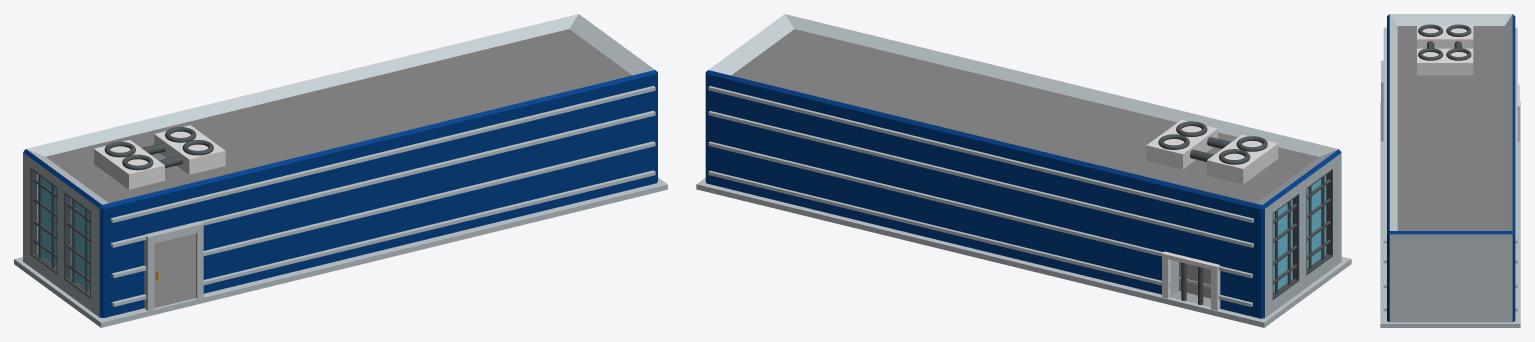
The model's file is ThirdBuilding.fbx.
3 views of the same model, side by side, from view 1: azimuth 30°, elevation 25°; view 2: azimuth 150°, elevation 25°; view 3: azimuth 270°, elevation 25° (orthographic). The views are drawn at different scales.
Parts seen in each view (by area): view 1: pasted__pCube24, pasted__pCube7, pasted__pCube16, pasted__pCube25, pasted__pCube19, pasted__pCube12, pasted__pCube158, pasted__pCube6, pasted__pCube148, pasted__pCube2, pasted__pCube3, pasted__pCube157 (+3 smaller); view 2: pasted__pCube24, pasted__pCube7, pasted__pCube12, pasted__pCube25, pasted__pCube19, pasted__pCube18, pasted__pCube158, pasted__pCube2, pasted__pCube148, pasted__pCube3, pasted__pCube21, pasted__pCube154 (+2 smaller); view 3: pasted__pCube24, pasted__pCube7, pasted__pCube3, pasted__pCube12, pasted__pCube157, pasted__pCube2, pasted__pCube6, pasted__pTorus1, pasted__pTorus2, pasted__pTorus3, pasted__pTorus4, pasted__pCube19 (+3 smaller).
Boxes of the visible parts, x1,y1,x2,y2 form: pasted__pCube24: [23, 14, 657, 317]; pasted__pCube7: [14, 177, 667, 327]; pasted__pCube16: [154, 233, 195, 307]; pasted__pCube25: [203, 170, 655, 285]; pasted__pCube19: [203, 141, 655, 256]; pasted__pCube12: [145, 86, 655, 214]; pasted__pCube158: [110, 119, 621, 247]; pasted__pCube6: [144, 221, 203, 310]; pasted__pCube148: [38, 174, 90, 291]; pasted__pCube2: [94, 140, 164, 189]; pasted__pCube3: [154, 125, 225, 174]; pasted__pCube157: [110, 96, 621, 222]; pasted__pCube24: [705, 14, 1341, 318]; pasted__pCube7: [696, 178, 1351, 327]; pasted__pCube12: [708, 86, 1219, 214]; pasted__pCube25: [708, 170, 1210, 288]; pasted__pCube19: [708, 141, 1163, 256]; pasted__pCube18: [708, 111, 1219, 237]; pasted__pCube158: [743, 120, 1253, 247]; pasted__pCube2: [1207, 134, 1278, 184]; pasted__pCube148: [1273, 175, 1325, 292]; pasted__pCube3: [1146, 120, 1217, 169]; pasted__pCube21: [1162, 251, 1220, 310]; pasted__pCube154: [1293, 194, 1299, 280]; pasted__pCube24: [1387, 14, 1515, 322]; pasted__pCube7: [1380, 101, 1520, 327]; pasted__pCube3: [1417, 48, 1473, 75]; pasted__pCube12: [1383, 41, 1517, 243]; pasted__pCube157: [1383, 27, 1517, 227]; pasted__pCube2: [1417, 25, 1473, 48]; pasted__pCube6: [1381, 60, 1383, 141]; pasted__pTorus1: [1446, 24, 1471, 36]; pasted__pTorus2: [1418, 24, 1443, 36]; pasted__pTorus3: [1446, 48, 1471, 60]; pasted__pTorus4: [1418, 48, 1443, 60]; pasted__pCube19: [1383, 263, 1517, 287].
Size of the model in its own units: 10.27 by 2.22 by 2.73.
